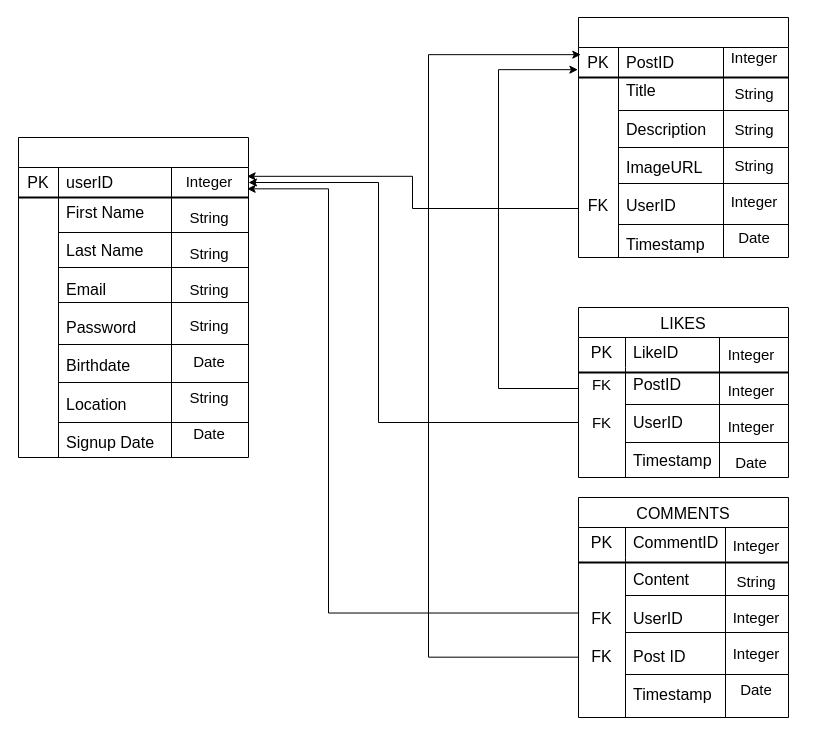
Some shapes in this 814 by 735 pixel diagram are drawn without their labels. Here are the shapes that lost their labels. From the top down, the box of each, then its label:
(578, 16, 788, 258): POSTS
(18, 136, 248, 458): USERS
